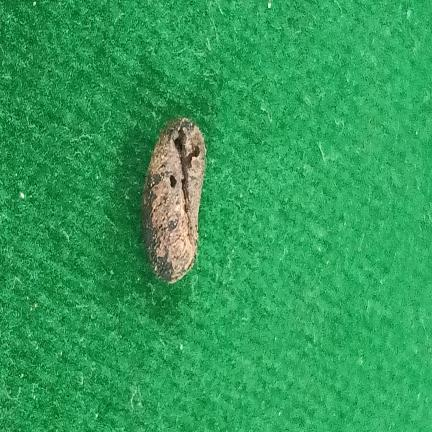partial-black: (142, 118, 206, 283)
